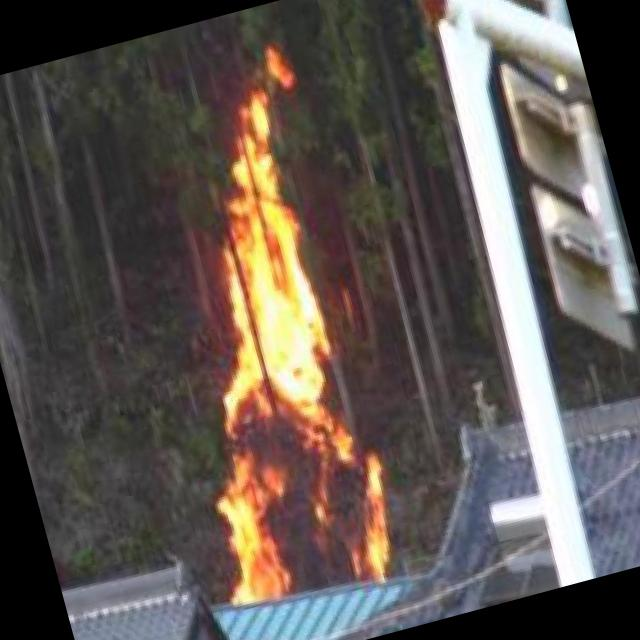Fire: (103, 61, 410, 620)
